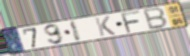7: (22, 27, 39, 49)
9: (43, 23, 65, 46)
B: (143, 6, 169, 31)
F: (119, 10, 142, 35)
I: (69, 20, 83, 43)
K: (94, 15, 118, 37)
